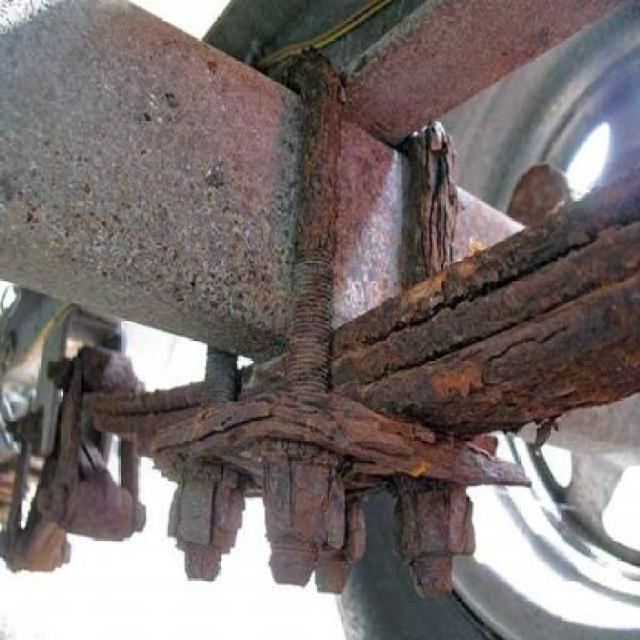corrosion: (9, 38, 629, 599)
